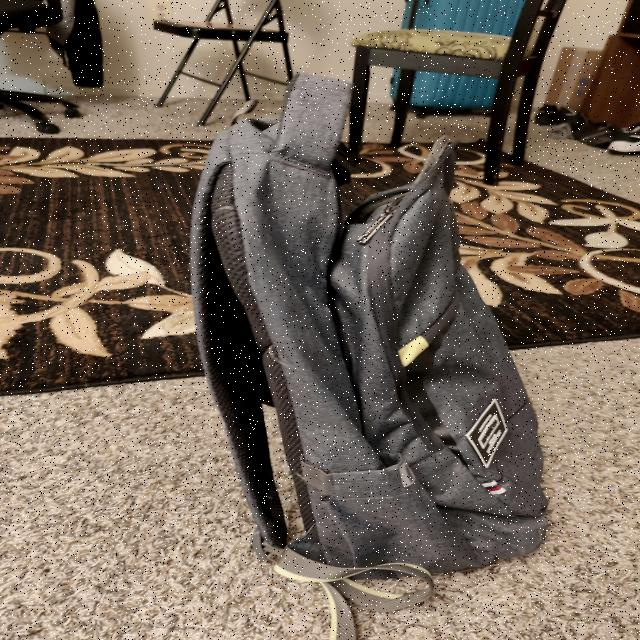bag: (220, 71, 536, 585)
